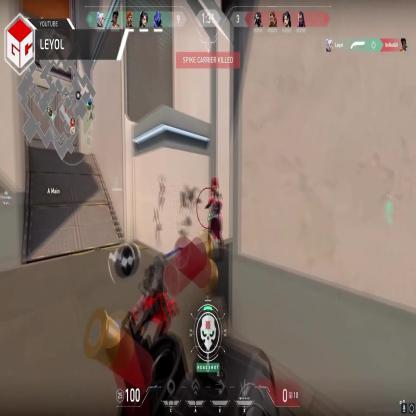enemy: (206, 181, 224, 260)
enemy_head: (212, 180, 219, 194)
